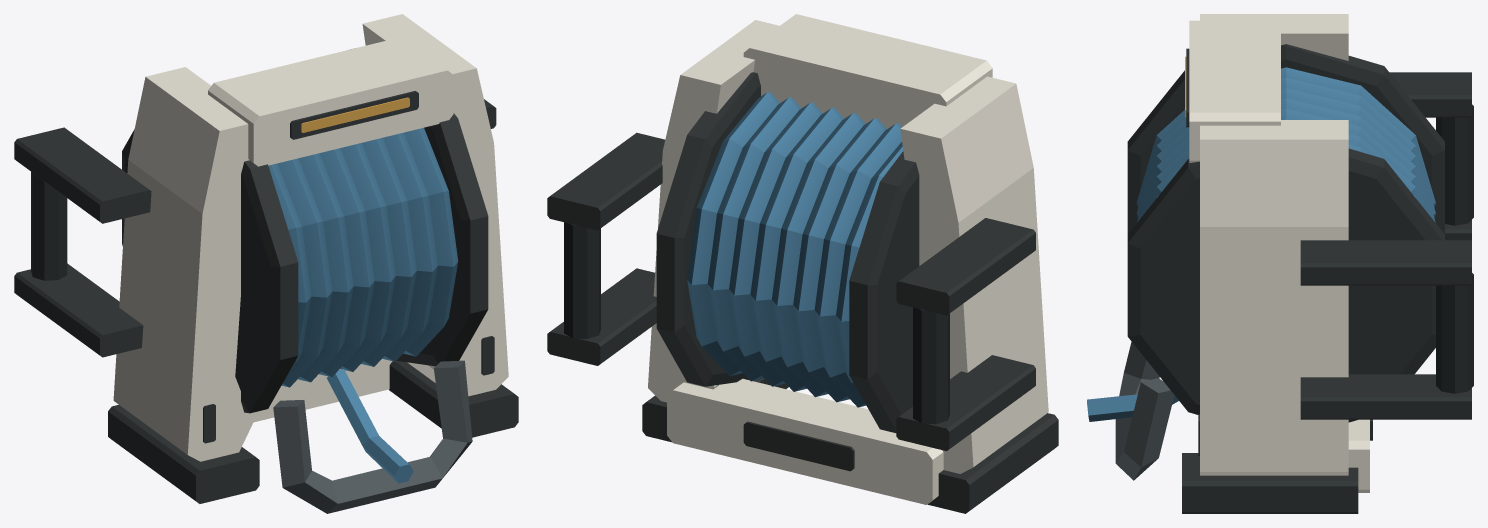
The model's file is wield-tether-winch.glb.
3 renders of one model, left to right at view 1: azimuth 30°, elevation 25°; view 2: azimuth 150°, elevation 25°; view 3: azimuth 270°, elevation 25°, orthographic.
Parts seen in each view (by area): view 1: winch__static_mesh, winch__spool_mesh; view 2: winch__static_mesh, winch__spool_mesh; view 3: winch__static_mesh, winch__spool_mesh.
Part boxes in pixels (left/top/right/bottom): winch__static_mesh: left=14, top=14, right=518, bottom=513; winch__spool_mesh: left=122, top=113, right=488, bottom=413; winch__static_mesh: left=547, top=14, right=1058, bottom=513; winch__spool_mesh: left=656, top=72, right=919, bottom=432; winch__static_mesh: left=1087, top=14, right=1473, bottom=513; winch__spool_mesh: left=1127, top=44, right=1444, bottom=422.
Bounding box in the file's own units: 0.484 × 0.4518 × 0.4082.
